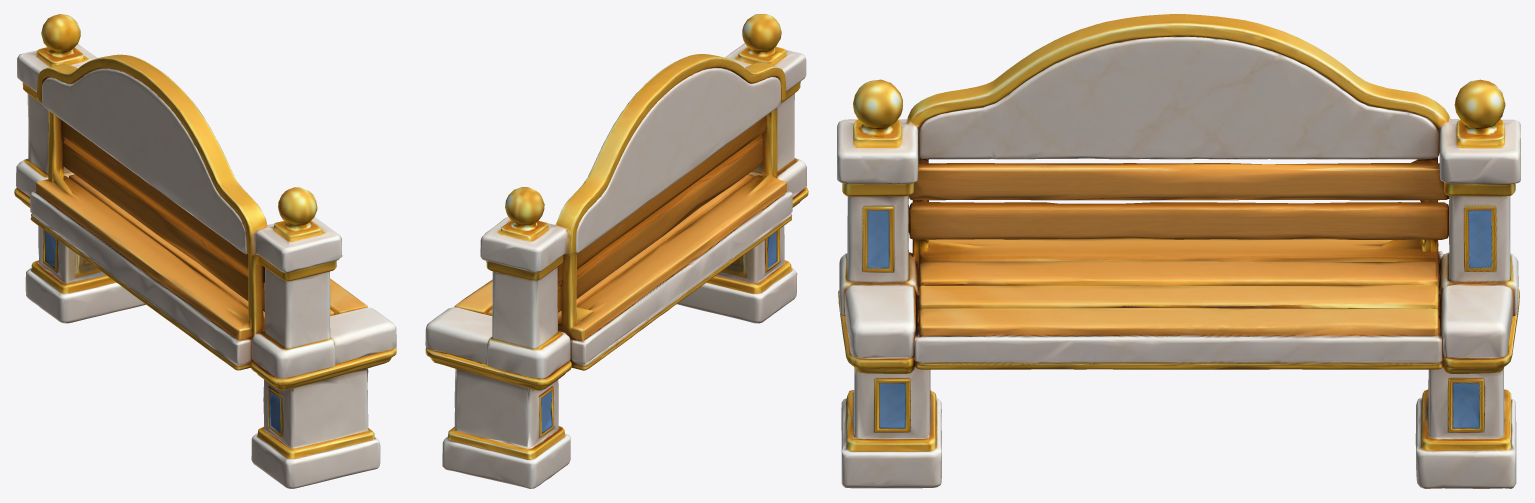
The model's file is HaloReasonHQ_BenchA_HD_src.glb.
3 views of the same model, side by side, from view 1: azimuth 30°, elevation 25°; view 2: azimuth 150°, elevation 25°; view 3: azimuth 270°, elevation 25° (orthographic). The views are drawn at different scales.
Visible parts, largest first — view 1: tripo_node_9f75db34-9760-4b2d-b056-c243daba625d; view 2: tripo_node_9f75db34-9760-4b2d-b056-c243daba625d; view 3: tripo_node_9f75db34-9760-4b2d-b056-c243daba625d.
Part boxes in pixels (x1,y1,x2,y2): tripo_node_9f75db34-9760-4b2d-b056-c243daba625d: (14,14,396,488); tripo_node_9f75db34-9760-4b2d-b056-c243daba625d: (425,14,808,488); tripo_node_9f75db34-9760-4b2d-b056-c243daba625d: (837,14,1520,488).
Size of the model in its own units: 0.2918 by 0.6511 by 0.9788.
Materials: 1 (1 with a texture image).
